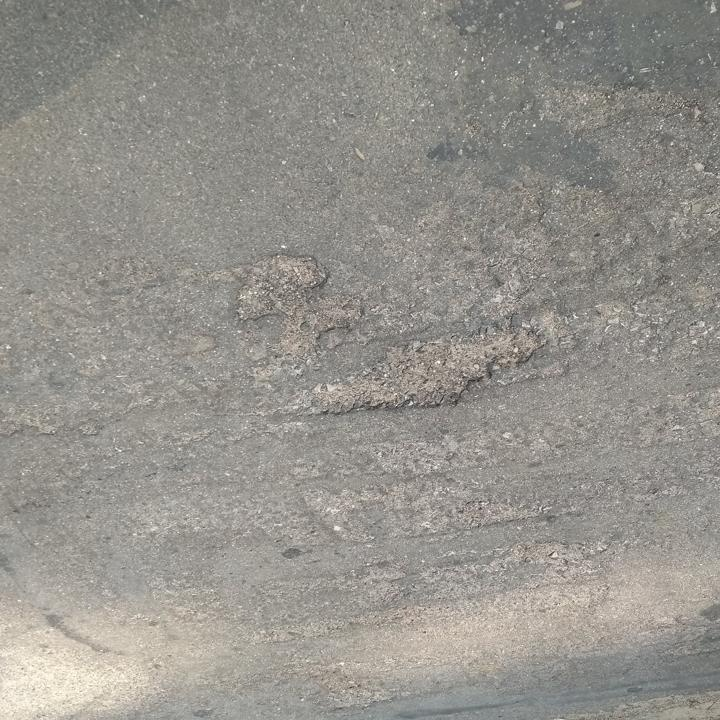pothole: (290, 324, 547, 420), (231, 251, 332, 324)
